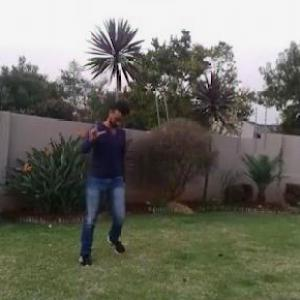land_hand: (83, 114, 104, 140)
